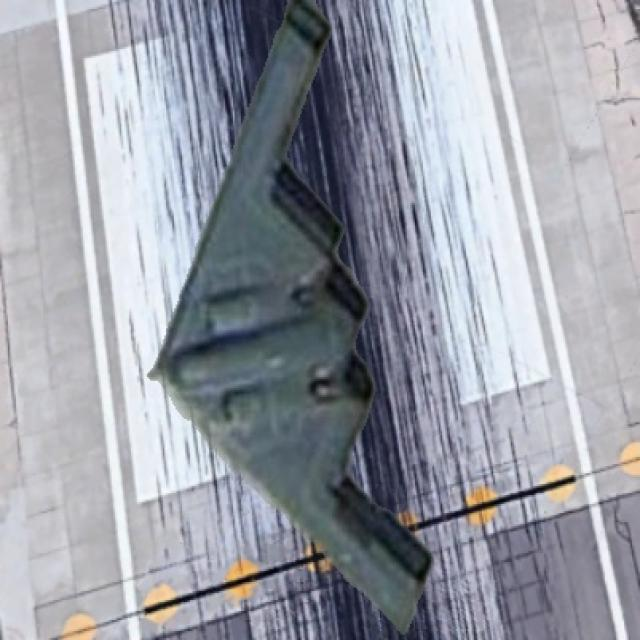B-2_TopDown: (145, 0, 434, 636)
